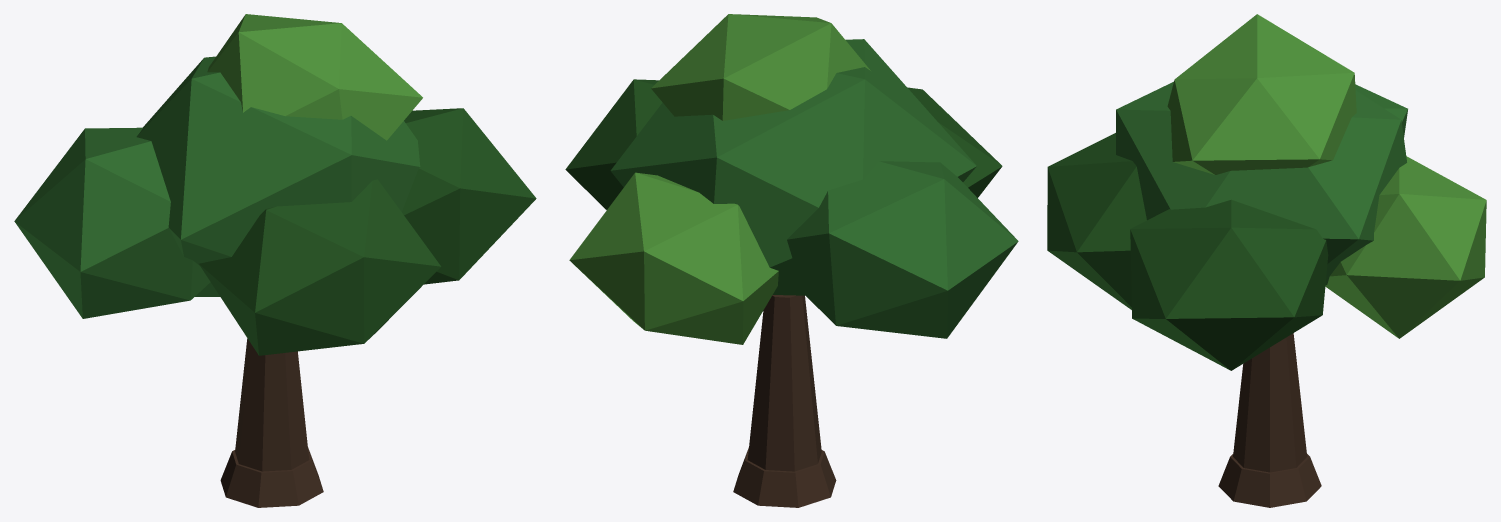
Rendered from tree_1.obj.
3 views of the same model, side by side, from view 1: azimuth 30°, elevation 25°; view 2: azimuth 150°, elevation 25°; view 3: azimuth 270°, elevation 25° (orthographic). The views are drawn at different scales.
Parts seen in each view (by area): view 1: tree_1; view 2: tree_1; view 3: tree_1.
Boxes of the visible parts, x1=… form: tree_1: x1=14, y1=14, x2=536, y2=507; tree_1: x1=565, y1=14, x2=1018, y2=507; tree_1: x1=1047, y1=14, x2=1486, y2=507.
Bounding box in the file's own units: 7.32 × 7.74 × 6.8.
